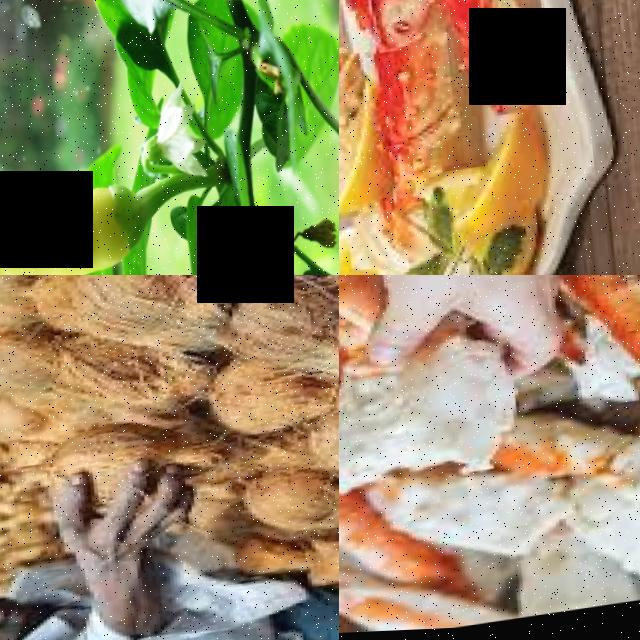chilli: (0, 170, 148, 275)
coconut: (70, 275, 213, 351), (307, 399, 339, 485)
crab: (347, 0, 550, 144), (339, 275, 390, 623), (552, 275, 640, 451)
